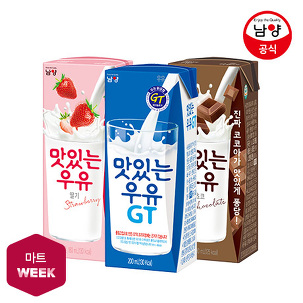milk: (43, 56, 259, 272)
